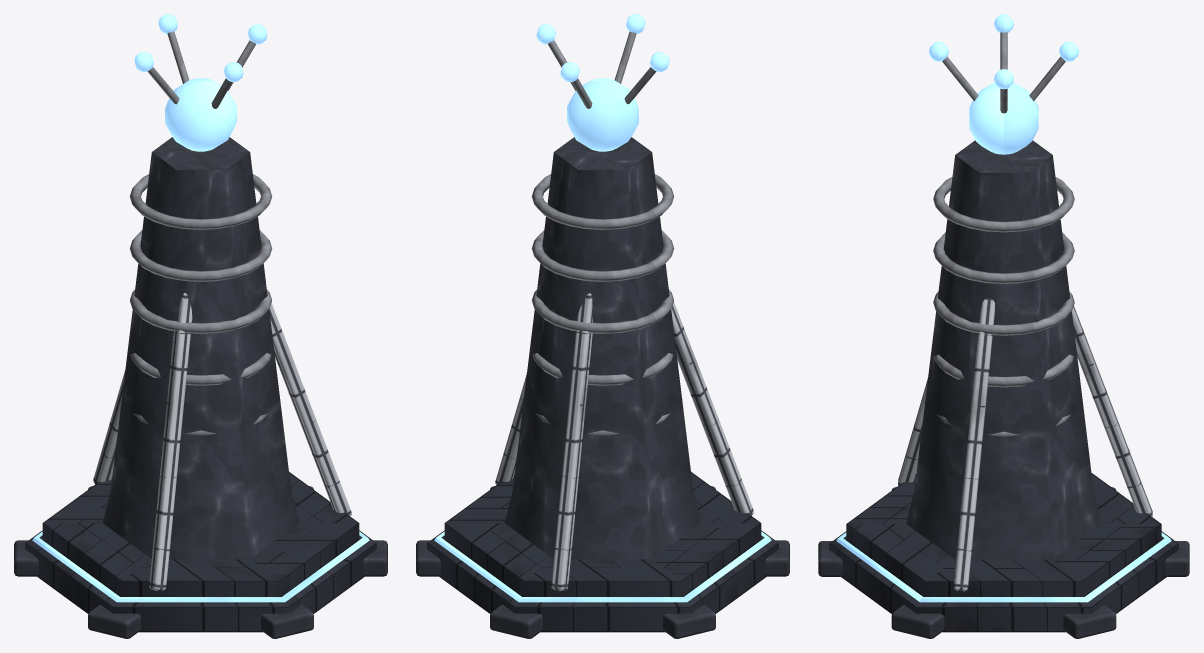
File: sf_storm.glb
3 views of the same model, side by side, from view 1: azimuth 30°, elevation 25°; view 2: azimuth 150°, elevation 25°; view 3: azimuth 270°, elevation 25° (orthographic).
Parts seen in each view (by area): view 1: Base, Turret; view 2: Base, Turret; view 3: Base, Turret.
Boxes of the visible parts, x1=… form: Base: x1=14, y1=137, x2=387, y2=638; Turret: x1=134, y1=14, x2=267, y2=151; Base: x1=416, y1=137, x2=789, y2=638; Turret: x1=536, y1=14, x2=669, y2=151; Base: x1=818, y1=140, x2=1189, y2=638; Turret: x1=928, y1=14, x2=1079, y2=154.
Bounding box in the file's own units: 0.8425 × 1.42 × 0.9128.
Materials: 5 (5 with a texture image).
